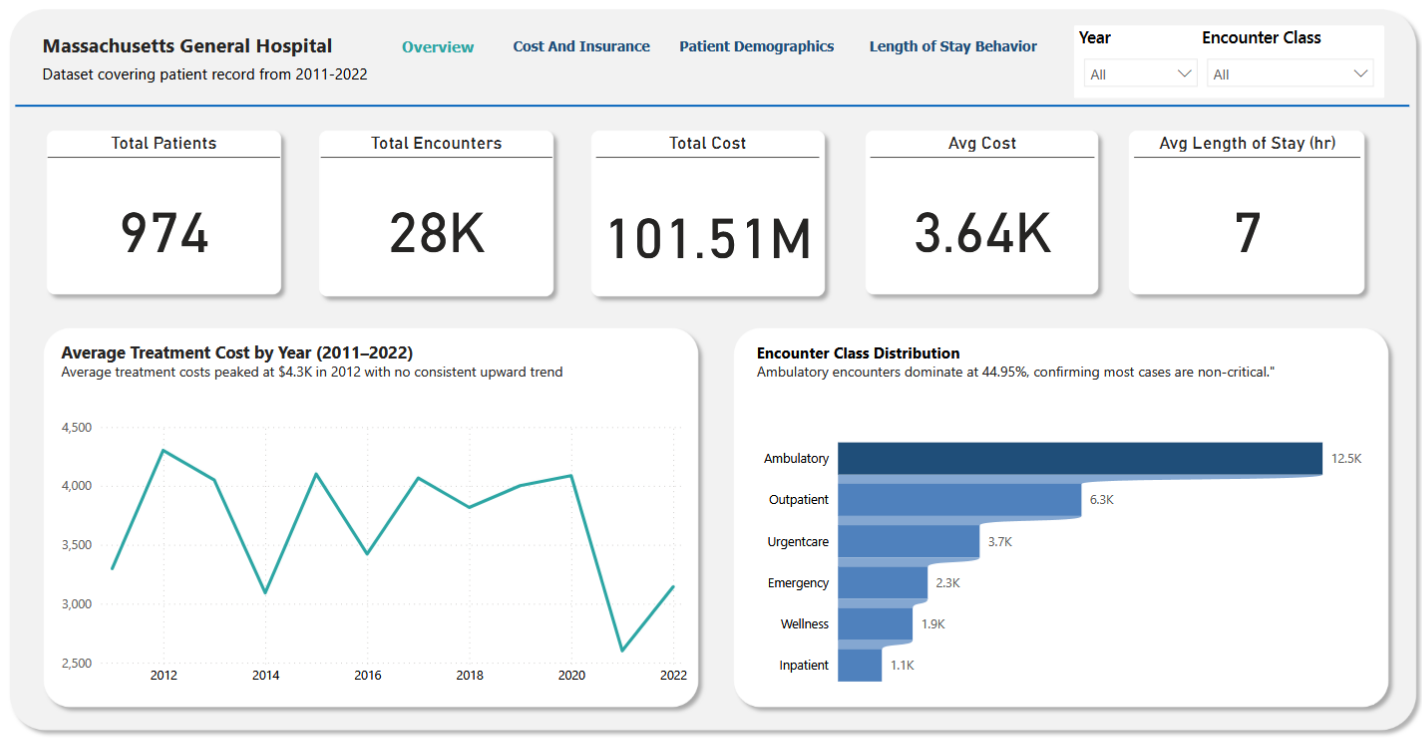

The page's visual inventory and layout, read from the dashboard file:
{"tool":"powerbi","page":{"name":"OVERVIEW","canvas":[1400,740],"ordinal":0},"visuals":[{"type":"shape","box":[21.7,17.1,1366.5,709.7],"z":0},{"type":"textbox","title":"Massachusetts General Hospital","box":[57.5,48.1,313.7,77.6],"z":1000},{"type":"actionButton","box":[358.7,41.9,122.7,40.4],"z":2000},{"type":"actionButton","box":[481.4,41.9,139.8,40.4],"z":3000},{"type":"actionButton","box":[632,41.9,189.4,40.4],"z":4000},{"type":"actionButton","box":[821.5,41.9,211.2,40.4],"z":5000},{"type":"shape","box":[35.7,111.8,1337,14],"z":6000},{"type":"shape","box":[57.5,133.5,242.2,175.5],"z":7000},{"type":"shape","box":[318.3,133.5,242.2,177],"z":8000},{"type":"shape","box":[841.6,133.5,242.2,175.5],"z":9000},{"type":"shape","box":[1094.8,133.5,243.8,175.5],"z":10000},{"type":"card","title":"Total Patients","fields":{"Values":["encounters.Total Patient"]},"box":[66.8,144.4,223.6,153.7],"z":11000},{"type":"card","title":"Total Encounter","fields":{"Values":["encounters.Total Encounter"]},"box":[329.2,144.4,222.1,153.7],"z":12000},{"type":"card","title":"Avg Cost","fields":{"Values":["encounters.Avg Cost"]},"box":[855.6,144.4,215.8,153.7],"z":13000},{"type":"card","title":"Avg Length of Stay (mins)","fields":{"Values":["encounters.AVE length of stay"]},"box":[1108.7,144.4,217.4,153.7],"z":14000},{"type":"shape","box":[54.4,323,646,382],"z":15000},{"type":"shape","box":[579.2,133.5,242.2,177],"z":16000},{"type":"card","title":"Total Cost","fields":{"Values":["encounters.Total Cost"]},"box":[593.2,144.4,214.3,164.6],"z":17000},{"type":"shape","box":[715.9,323,646,382],"z":18000},{"type":"lineChart","fields":{"Y":["CountNonNull(encounters.ENCOUNTER ID)"],"Category":["encounters.ADMISSION DATE.Variation.Date Hierarchy.Year","encounters.ADMISSION DATE.Variation.Date Hierarchy.Quarter","encounters.ADMISSION DATE.Variation.Date Hierarchy.Month","encounters.ADMISSION DATE.Variation.Date Hierarchy.Day"]},"box":[76.1,413.1,608.7,270.2],"z":19000},{"type":"textbox","box":[76.1,340.1,608.7,73],"z":20000},{"type":"barChart","fields":{"Y":["CountNonNull(encounters.ENCOUNTER ID)"],"Category":["encounters.ENCOUNTERCLASS"]},"box":[742.3,413.1,596.3,279.5],"z":21000},{"type":"textbox","title":"Encounter Class Distribution","box":[741.7,340,596.7,85],"z":22000},{"type":"shape","box":[1051.3,41.9,298.1,69.9],"z":25000},{"type":"slicer","title":"YEAR","fields":{"Values":["encounters.ADMISSION DATE.Variation.Date Hierarchy.Year"]},"box":[1051.3,41.9,128.9,77.6],"z":26000},{"type":"slicer","title":"ENCOUNTER CLASSS","fields":{"Values":["encounters.ENCOUNTERCLASS"]},"box":[1169.3,41.9,180.1,77.6],"z":27000}]}

Visuals, with their boxes in screenshot pixels (x1, y1, x2, y2), scaled from the page's 1400x740 canvas onto the 1422x740 screenshot:
shape: select_region(22, 17, 1410, 727)
"Massachusetts General Hospital" textbox: select_region(58, 48, 377, 126)
actionButton: select_region(364, 42, 489, 82)
actionButton: select_region(489, 42, 631, 82)
actionButton: select_region(642, 42, 834, 82)
actionButton: select_region(834, 42, 1049, 82)
shape: select_region(36, 112, 1394, 126)
shape: select_region(58, 134, 304, 309)
shape: select_region(323, 134, 569, 310)
shape: select_region(855, 134, 1101, 309)
shape: select_region(1112, 134, 1360, 309)
"Total Patients" card: select_region(68, 144, 295, 298)
"Total Encounter" card: select_region(334, 144, 560, 298)
"Avg Cost" card: select_region(869, 144, 1088, 298)
"Avg Length of Stay (mins)" card: select_region(1126, 144, 1347, 298)
shape: select_region(55, 323, 711, 705)
shape: select_region(588, 134, 834, 310)
"Total Cost" card: select_region(603, 144, 820, 309)
shape: select_region(727, 323, 1383, 705)
lineChart - CountNonNull(encounters.ENCOUNTER ID) x encounters.ADMISSION DATE.Variation.Date Hierarchy.Year: select_region(77, 413, 696, 683)
textbox: select_region(77, 340, 696, 413)
barChart - CountNonNull(encounters.ENCOUNTER ID) x encounters.ENCOUNTERCLASS: select_region(754, 413, 1360, 693)
"Encounter Class Distribution" textbox: select_region(753, 340, 1359, 425)
shape: select_region(1068, 42, 1371, 112)
"YEAR" slicer: select_region(1068, 42, 1199, 120)
"ENCOUNTER CLASSS" slicer: select_region(1188, 42, 1371, 120)
